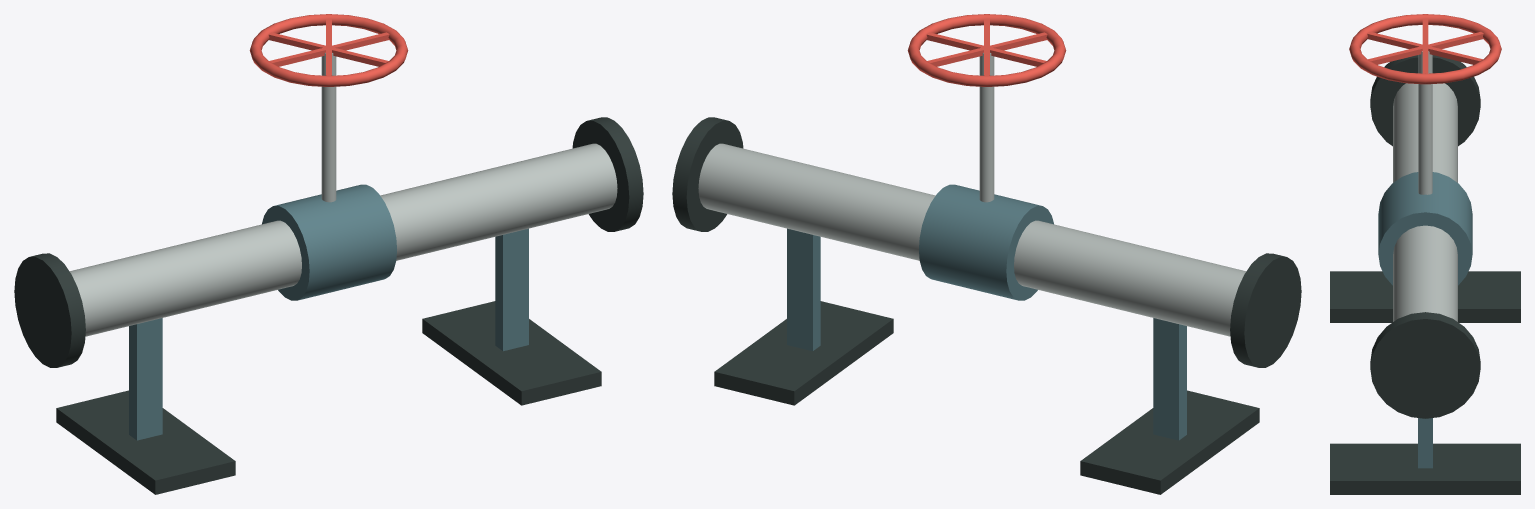
File: pipe-valve.glb
3 renders of one model, left to right at view 1: azimuth 30°, elevation 25°; view 2: azimuth 150°, elevation 25°; view 3: azimuth 270°, elevation 25°, orthographic. The views are drawn at different scales.
Parts seen in each view (by area): view 1: PipeTube, FlangePlate (×2), ValveBody, SupportFoot1, SupportFoot-1, Handwheel, SupportPost1, SupportPost-1, Stem, Spoke1, Spoke3; view 2: PipeTube, FlangePlate (×2), ValveBody, SupportFoot1, SupportFoot-1, Handwheel, SupportPost1, SupportPost-1, Stem, Spoke1, Spoke2; view 3: FlangePlate (×2), PipeTube, SupportFoot1, SupportFoot-1, ValveBody, Handwheel, Stem, Spoke2, Spoke3, SupportPost1, Spoke1.
Boxes of the visible parts, <box> form: PipeTube: <box>69,143,617,336</box>; FlangePlate (×2): <box>14,117,643,367</box>; ValveBody: <box>262,184,396,300</box>; SupportFoot1: <box>422,301,601,405</box>; SupportFoot-1: <box>56,390,235,494</box>; Handwheel: <box>249,14,408,86</box>; SupportPost1: <box>495,228,528,351</box>; SupportPost-1: <box>129,318,162,440</box>; Stem: <box>321,53,336,202</box>; Spoke1: <box>269,32,389,66</box>; Spoke3: <box>268,32,388,66</box>; PipeTube: <box>698,143,1246,336</box>; FlangePlate (×2): <box>672,117,1301,367</box>; ValveBody: <box>919,184,1053,300</box>; SupportFoot1: <box>714,301,893,405</box>; SupportFoot-1: <box>1080,390,1259,494</box>; Handwheel: <box>907,14,1066,86</box>; SupportPost1: <box>787,228,820,351</box>; SupportPost-1: <box>1153,318,1186,440</box>; Stem: <box>979,53,994,202</box>; Spoke1: <box>926,32,1046,66</box>; Spoke2: <box>927,32,1047,66</box>; FlangePlate (×2): <box>1370,55,1480,418</box>; PipeTube: <box>1393,83,1457,321</box>; SupportFoot1: <box>1330,443,1520,494</box>; SupportFoot-1: <box>1330,271,1520,322</box>; ValveBody: <box>1378,172,1472,285</box>; Handwheel: <box>1349,14,1501,84</box>; Stem: <box>1418,51,1432,194</box>; Spoke2: <box>1367,31,1482,64</box>; Spoke3: <box>1368,31,1483,64</box>; SupportPost1: <box>1418,418,1432,468</box>; Spoke1: <box>1422,18,1428,73</box>.
Bounding box in the file's own units: 1.5 × 0.9 × 0.45.
